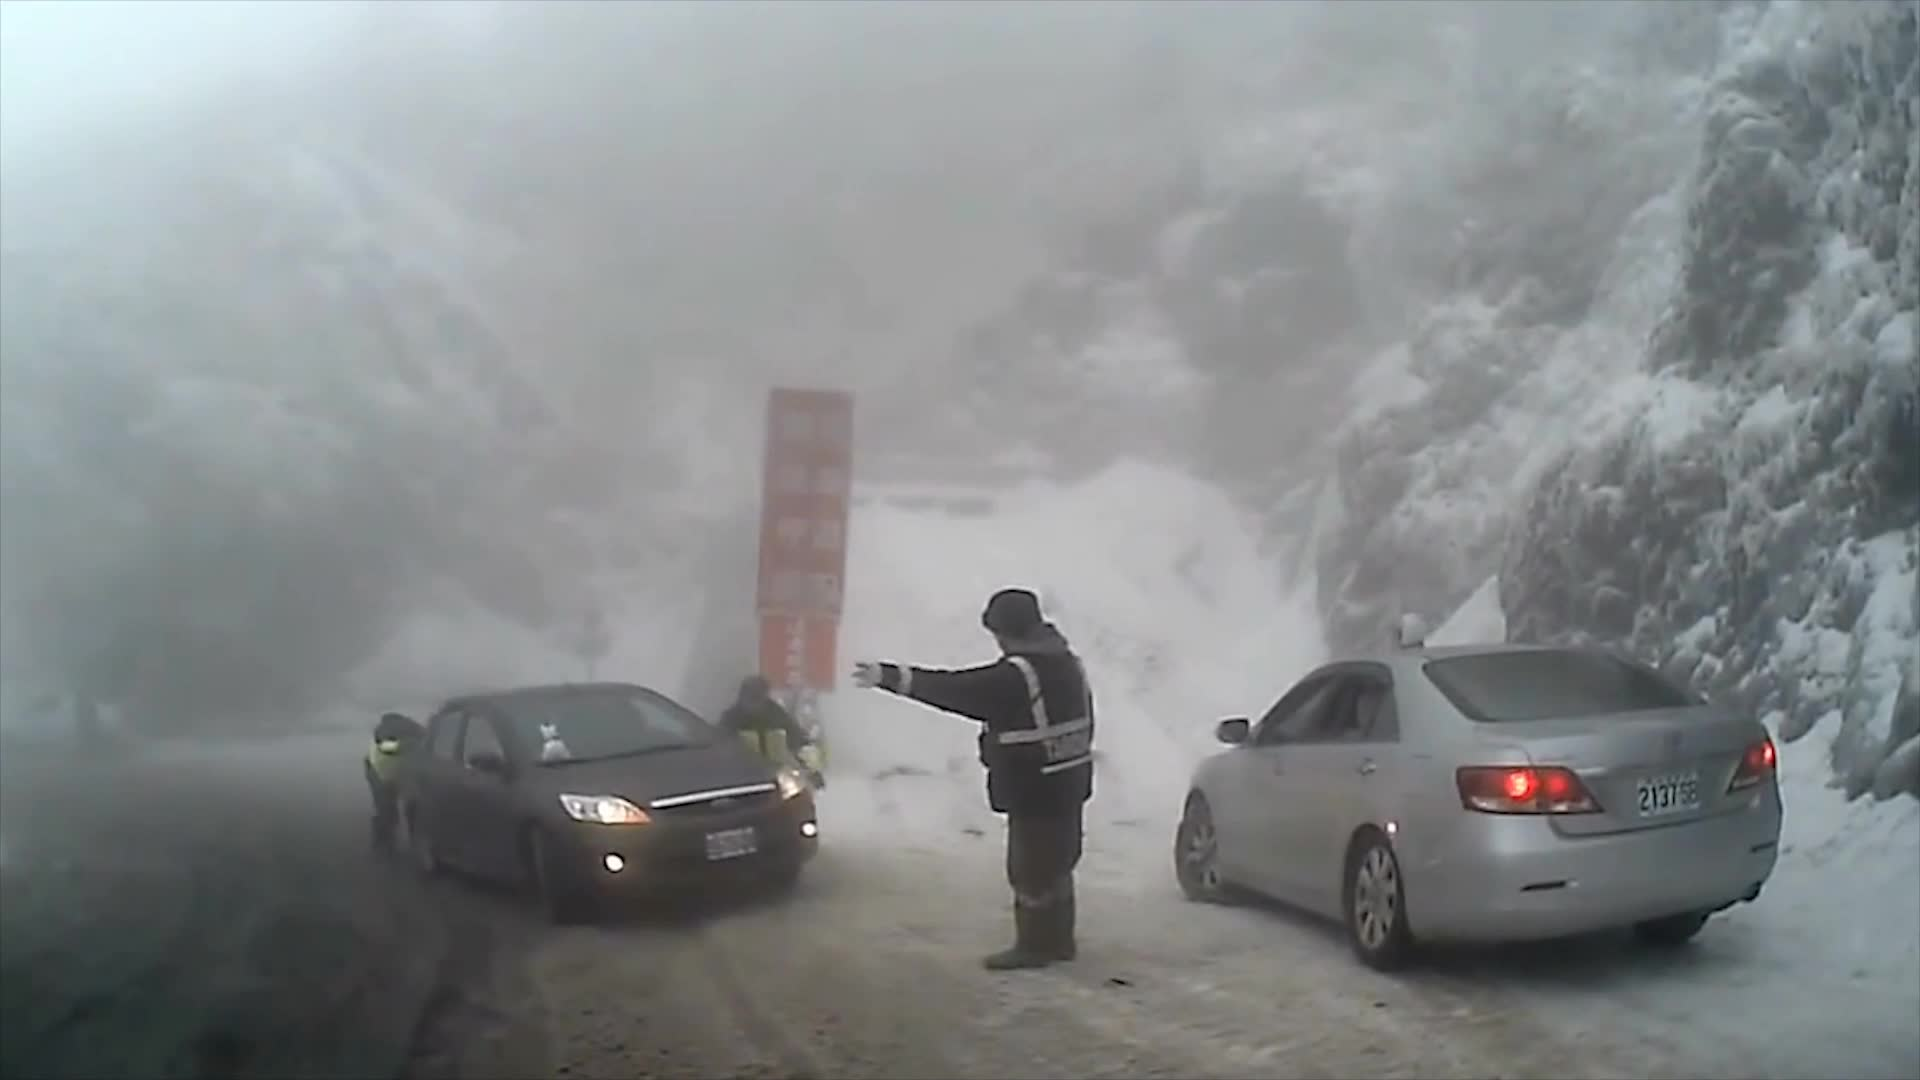pedestrian: (857, 590, 1101, 974), (712, 671, 834, 840), (1380, 616, 1452, 828), (363, 708, 442, 854)
vehicle: (1172, 644, 1782, 973), (393, 681, 814, 923)
